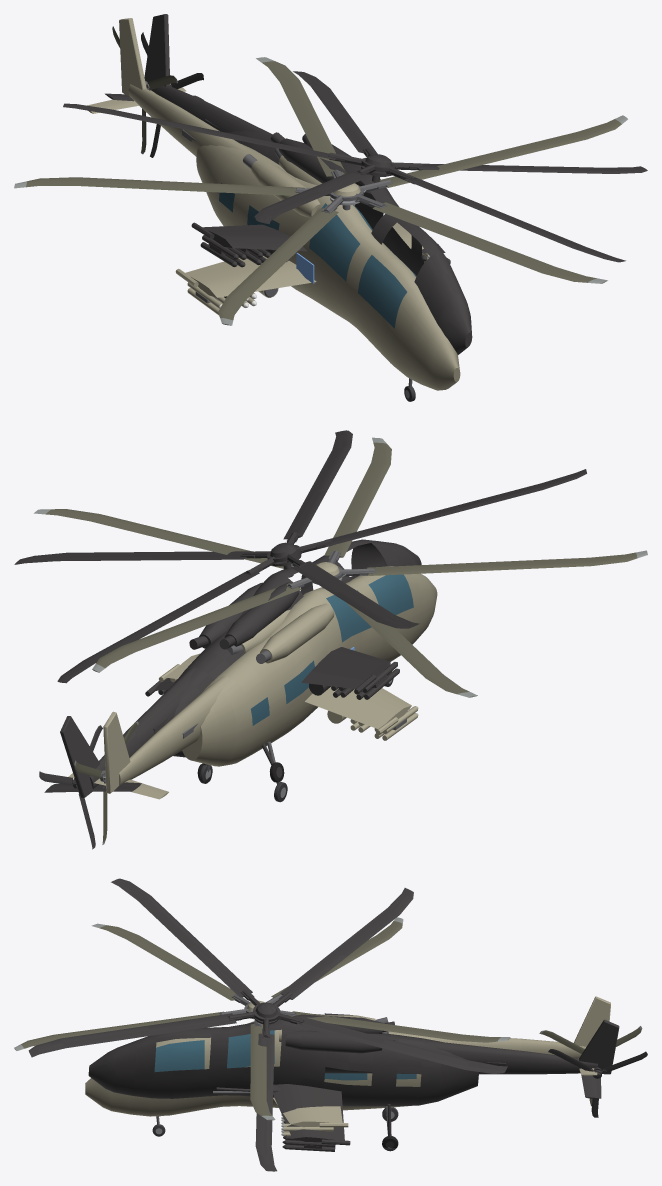
File: gunship__mi_35p.glb
The picture shows the model from 3 angles, top to bottom: view 1: azimuth 30°, elevation 25°; view 2: azimuth 150°, elevation 25°; view 3: azimuth 270°, elevation 25°; orthographic projection. The views are drawn at different scales.
Visible parts, largest first — view 1: Fuselage_Mesh, Wreck, Rotor_Main_Mesh, Stub_Wings_Stores_Mesh, Engines_Mesh; view 2: Wreck, Fuselage_Mesh, Rotor_Main_Mesh, Stub_Wings_Stores_Mesh, Engines_Mesh, Rotor_Tail_Mesh; view 3: Wreck, Fuselage_Mesh, Rotor_Main_Mesh, Stub_Wings_Stores_Mesh, Rotor_Tail_Mesh.
Part boxes in pixels (<box>): Fuselage_Mesh: <box>87,18,460,390</box>; Wreck: <box>63,14,647,354</box>; Rotor_Main_Mesh: <box>14,57,627,325</box>; Stub_Wings_Stores_Mesh: <box>175,222,429,315</box>; Engines_Mesh: <box>243,148,354,217</box>; Wreck: <box>14,430,586,849</box>; Fuselage_Mesh: <box>68,566,437,799</box>; Rotor_Main_Mesh: <box>34,437,647,697</box>; Stub_Wings_Stores_Mesh: <box>159,653,418,740</box>; Engines_Mesh: <box>227,603,334,663</box>; Rotor_Tail_Mesh: <box>74,721,138,844</box>; Wreck: <box>28,878,647,1171</box>; Fuselage_Mesh: <box>85,996,610,1116</box>; Rotor_Main_Mesh: <box>14,917,510,1120</box>; Stub_Wings_Stores_Mesh: <box>273,1097,348,1136</box>; Rotor_Tail_Mesh: <box>539,1026,642,1106</box>.
Size of what is drawn, in the model's own units: 16.57 by 6.98 by 21.12.
